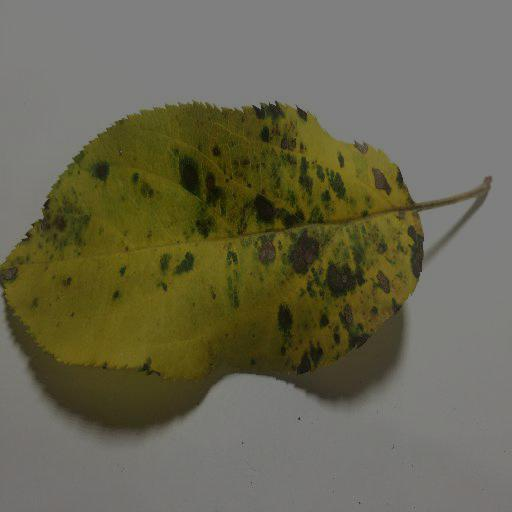Brown_Spot: (43, 213, 73, 245), (338, 306, 357, 338), (372, 272, 392, 299), (253, 199, 273, 224), (369, 168, 387, 195), (295, 235, 310, 266), (6, 259, 21, 282), (260, 243, 278, 259), (379, 240, 389, 253), (357, 140, 366, 153)
